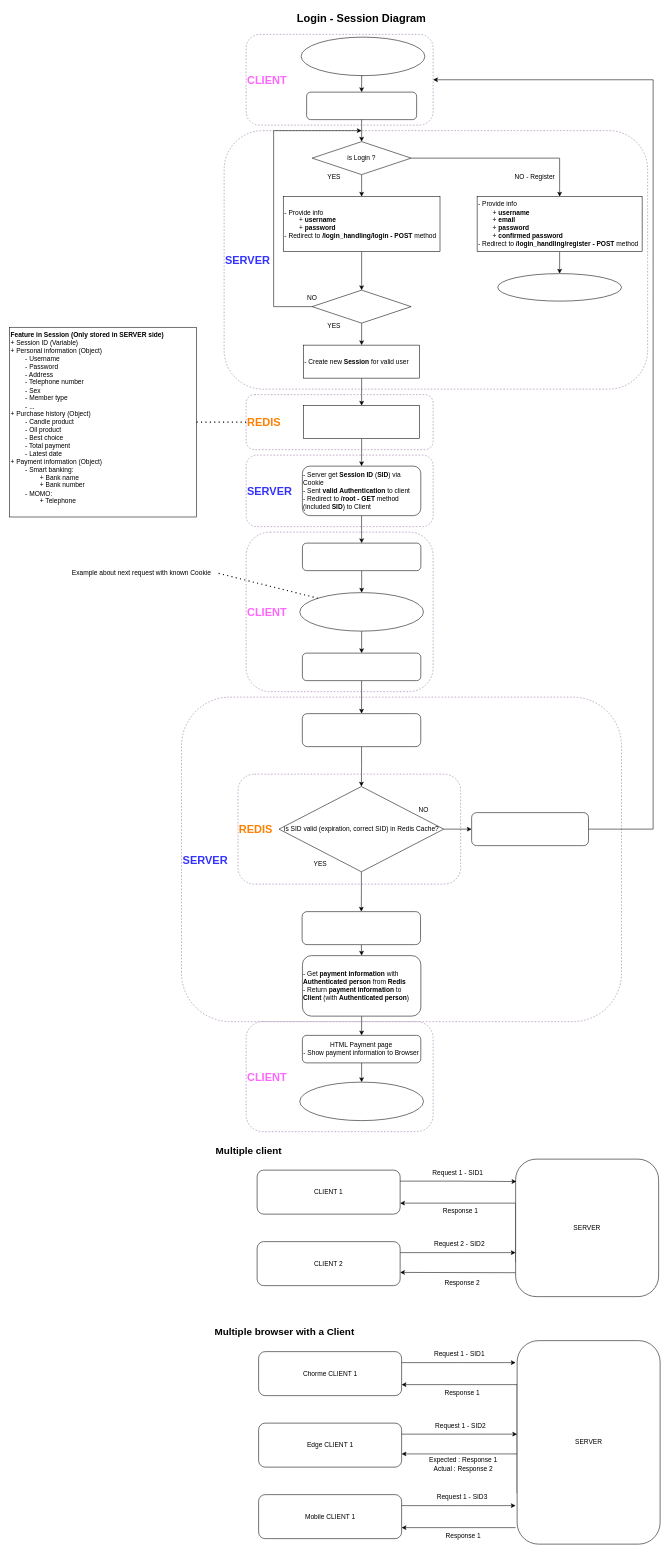
This 670x1554 diagram has some shape labels left out. Here are the shapes that lost their labels. From the top down, the centre of each, then its label:
(x=363, y=56): START ( /login_handling - GET method)
(x=361, y=106): HTML Login Page
(x=361, y=306): is Valid in Database ?
(x=559, y=287): Switch to Register Logic
(x=361, y=422): - Store Session in Session Redis - Session Redis return Session ID
(x=361, y=557): HTML Home page (with valid username and SID in Cookie)
(x=361, y=611): START NEXT REQUEST ( /payment - POST method)
(x=361, y=667): HTML Payment page - Request Server return payment information
(x=361, y=730): - Get SID from Cookie in Client - Send SID to Redis and get session information
(x=529, y=829): Request Client login again
(x=361, y=928): - Return Authentication and Session data to Server
(x=361, y=1101): STOP Waiting for next request
